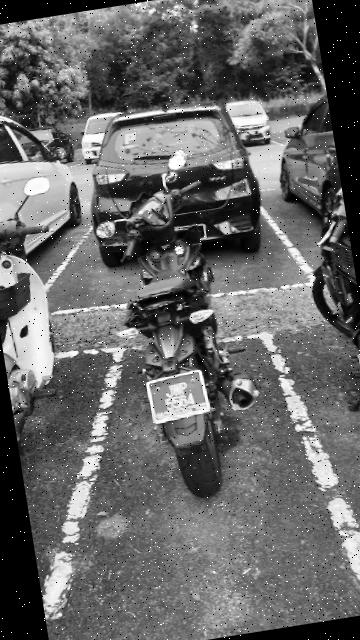License_Plate: (140, 368, 214, 431)
motorcycle: (79, 134, 283, 511)
